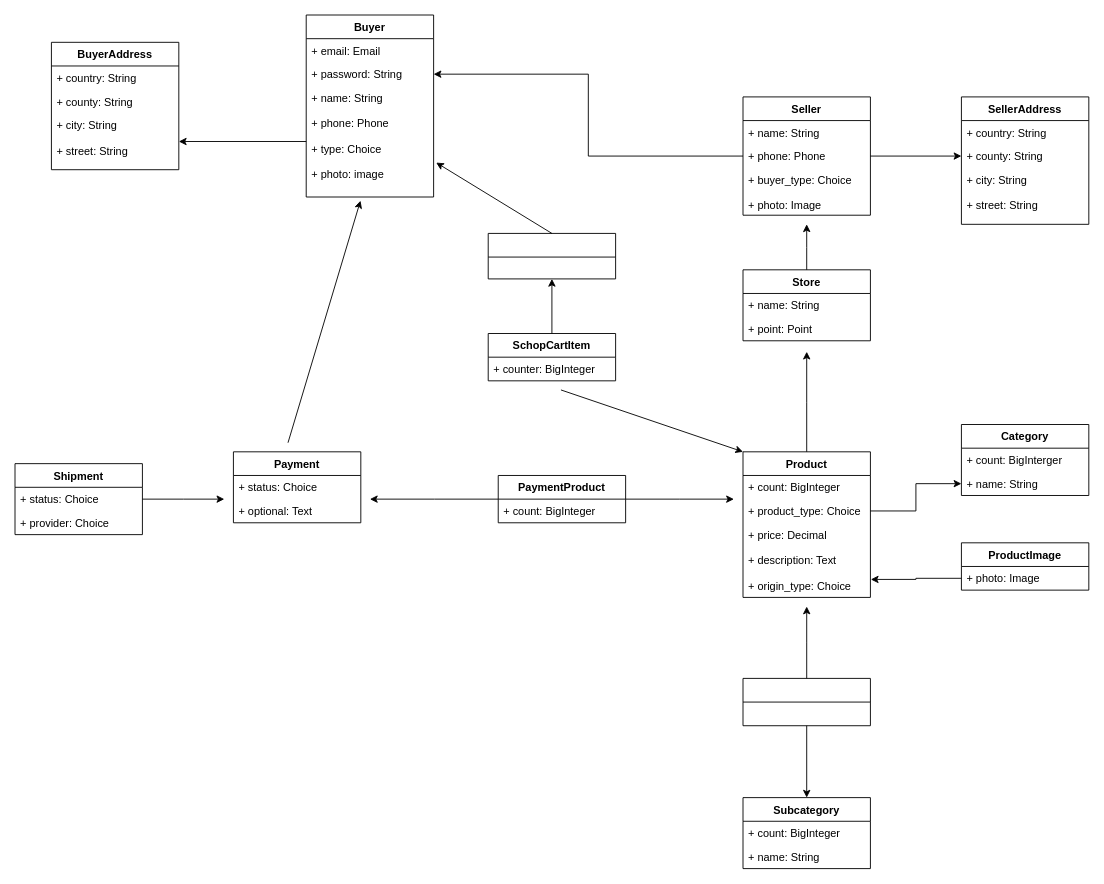
This 1104x884 diagram has some shape labels left out. Each missing label, with the centre of its shape:
"ProductSubcategoryMap" belongs at (x=806, y=701).
"ShopCart" belongs at (x=551, y=256).
